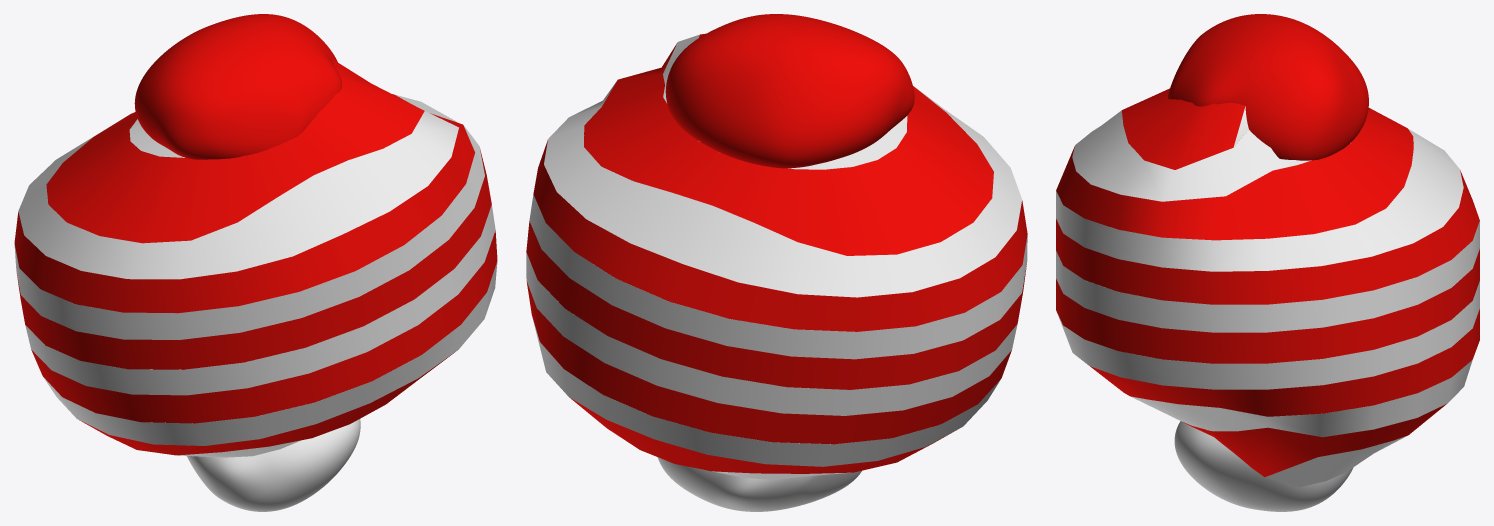
File: Punchy_CylRedWhiteCandy.glb
The picture shows the model from 3 angles, left to right: view 1: azimuth 30°, elevation 25°; view 2: azimuth 150°, elevation 25°; view 3: azimuth 270°, elevation 25°; orthographic projection. The views are drawn at different scales.
Visible parts, largest first — view 1: cANDY2, cANDYONE, Candy_rOEDTOPspHE, Candy_RoedByundSpeher; view 2: cANDY2, cANDYONE, Candy_rOEDTOPspHE, Candy_RoedByundSpeher; view 3: cANDY2, cANDYONE, Candy_rOEDTOPspHE, Candy_RoedByundSpeher.
Part boxes in pixels (x1,y1,x2,y2): cANDY2: [14, 60, 497, 455]; cANDYONE: [14, 94, 497, 457]; Candy_rOEDTOPspHE: [134, 14, 342, 159]; Candy_RoedByundSpeher: [178, 419, 360, 511]; cANDY2: [526, 33, 1027, 473]; cANDYONE: [526, 34, 1027, 479]; Candy_rOEDTOPspHE: [665, 14, 914, 168]; Candy_RoedByundSpeher: [657, 387, 861, 511]; cANDY2: [1056, 88, 1479, 477]; cANDYONE: [1056, 106, 1479, 487]; Candy_rOEDTOPspHE: [1168, 14, 1368, 160]; Candy_RoedByundSpeher: [1174, 413, 1353, 511].
Bounding box in the file's own units: 22.55 × 23.38 × 19.61.
